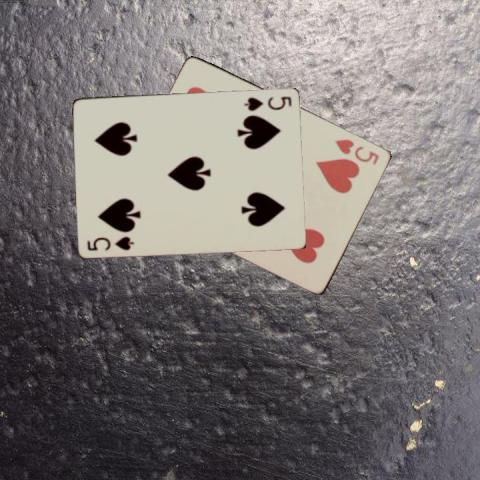5h: (331, 136, 381, 166)
5s: (241, 93, 294, 112), (85, 233, 136, 252)
